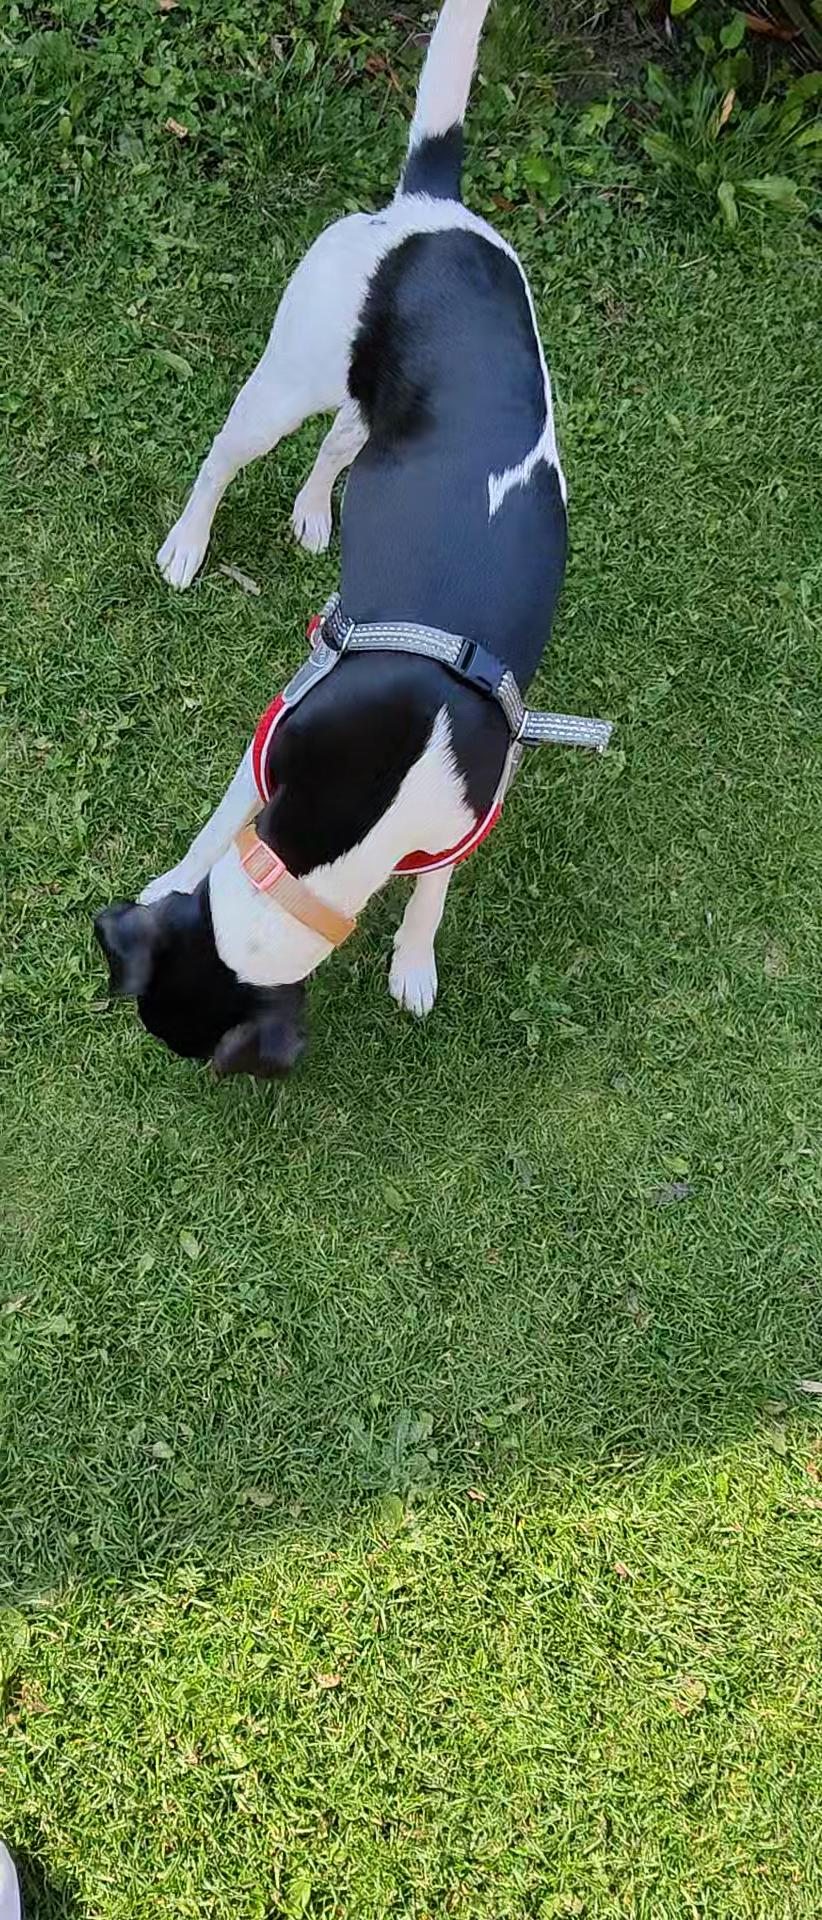Dog: (67, 0, 586, 1100)
